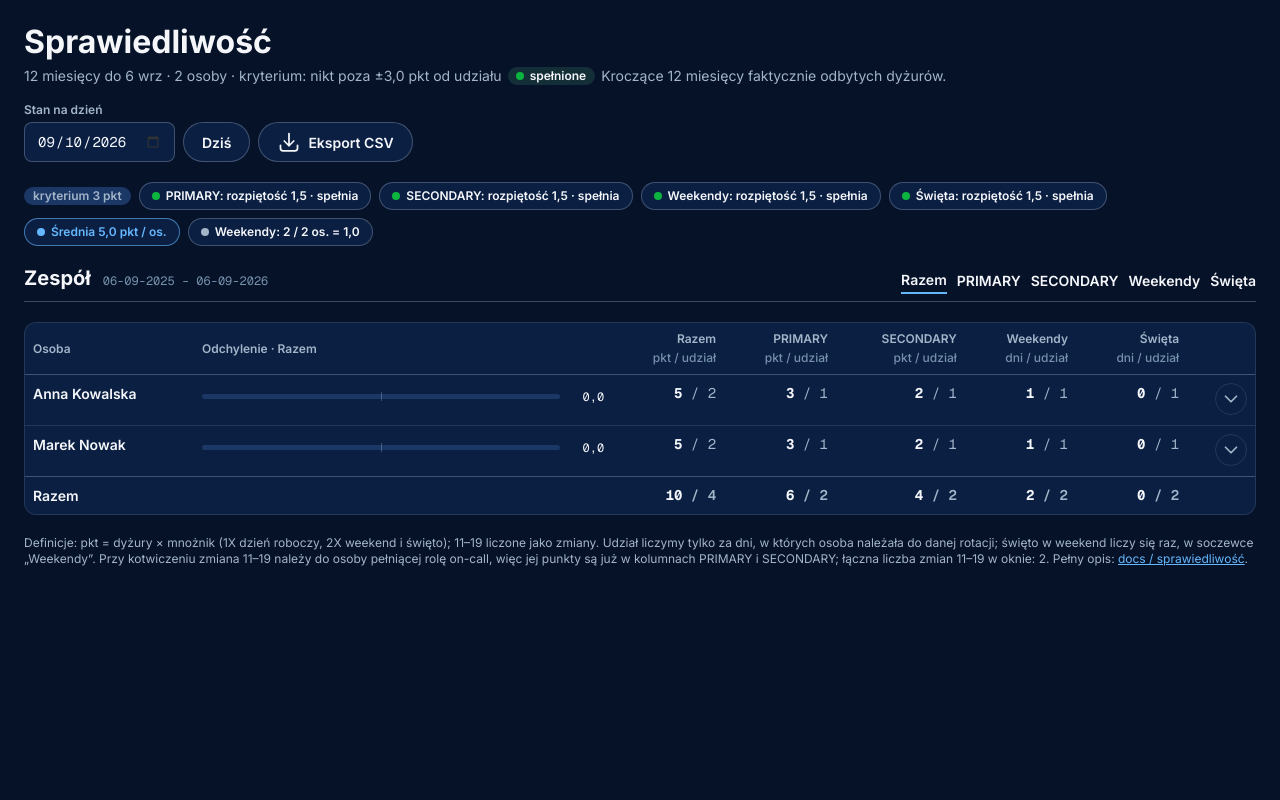
it: FairnessPanel drilldown plans › reports a failed month list and loads it again on retry
Expected: the column heading "Anna Kowalska" is shown, x1=25 y1=375 x2=194 y2=426
Click the button named "Rozwiń: Anna Kowalska" at point(1231, 399), box x1=1215 y1=383 x2=1247 y2=415
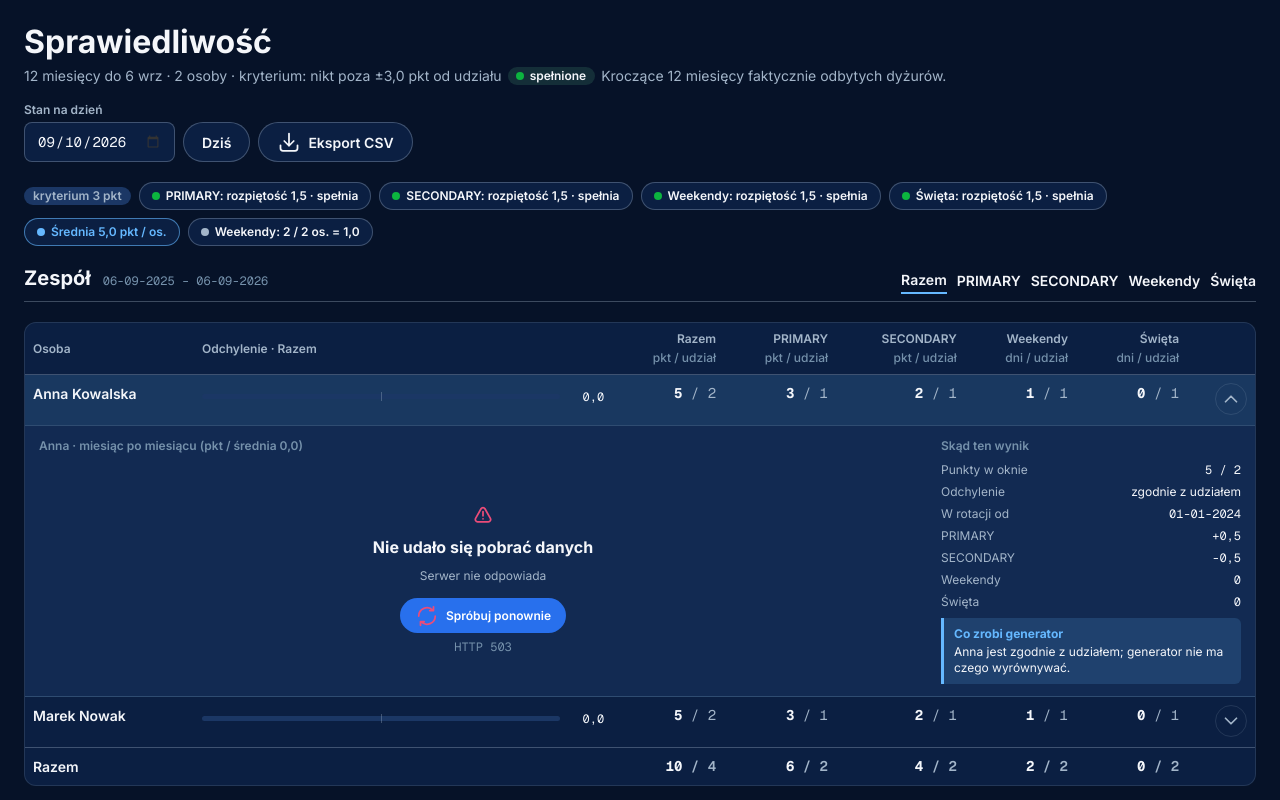
Expected: the message shows "Serwer nie odpowiada", x1=420 y1=568 x2=546 y2=583
Click the button "Spróbuj ponownie" at point(483, 616), box x1=400 y1=598 x2=566 y2=633
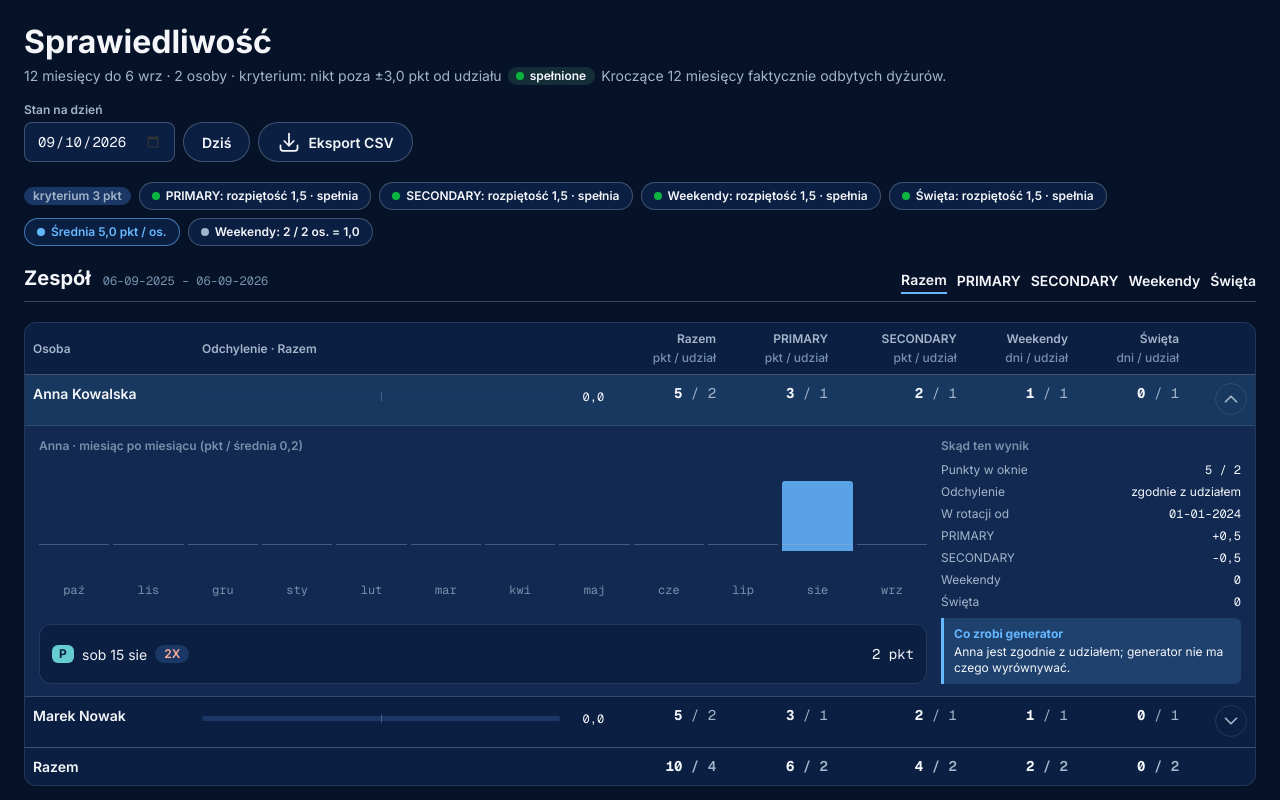
Expected: the text "sob 15 sie" is shown, x1=82 y1=644 x2=147 y2=665
